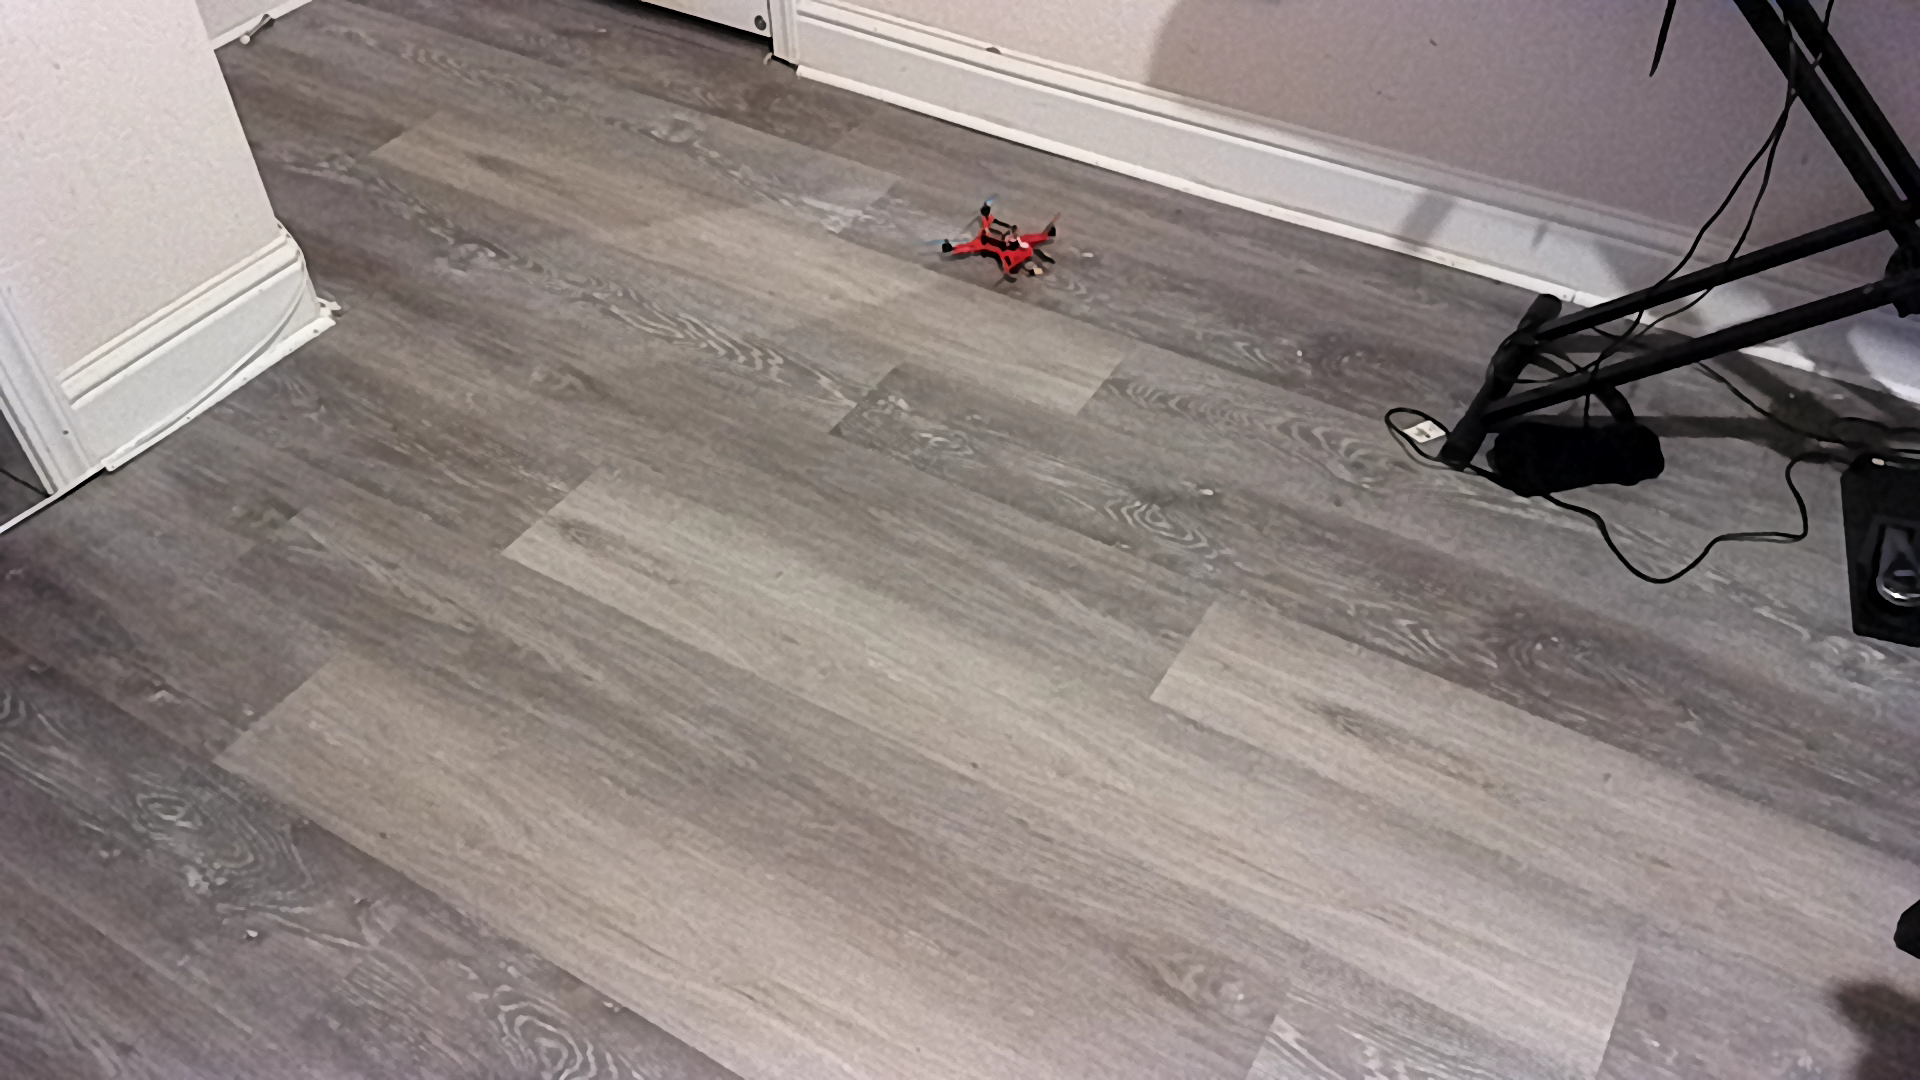drone: (911, 193, 1100, 297)
